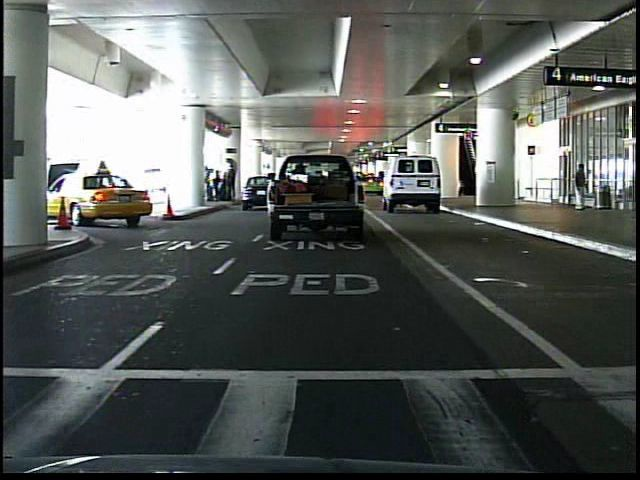person: (569, 161, 590, 213)
